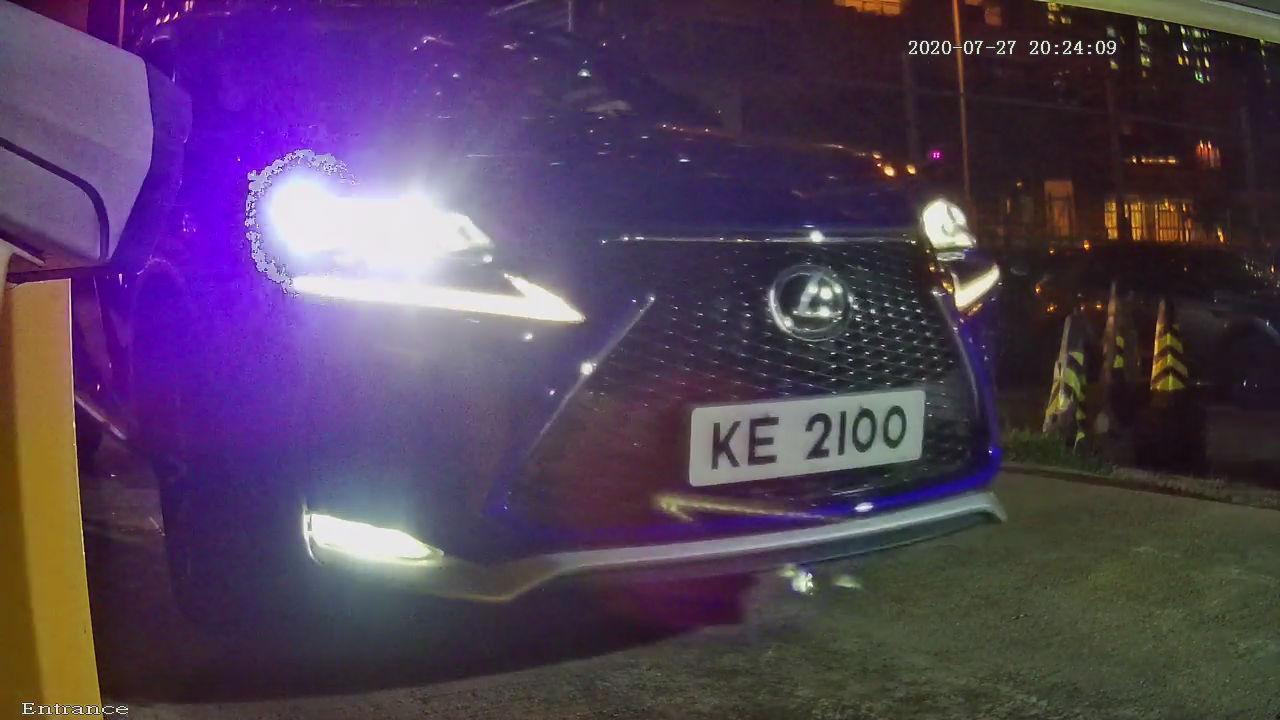privatecar: (69, 1, 1069, 682)
